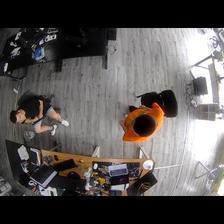normal: (10, 92, 70, 143), (117, 99, 165, 146)
